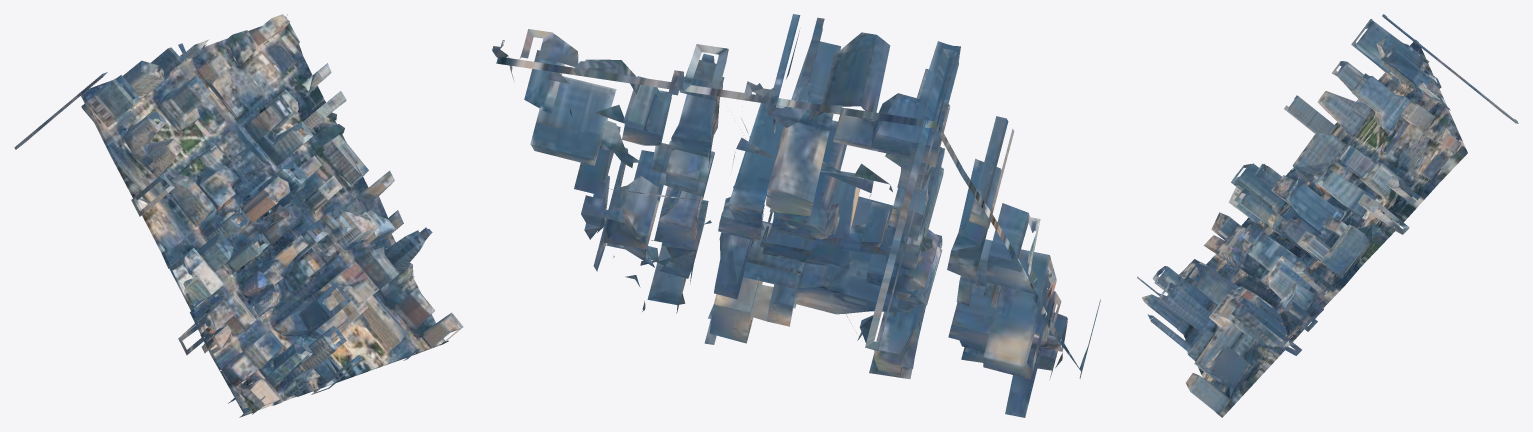
File: AJVsH2yWs-6Wjqg1tFX0XgY26T4yGLd7Tq22v1IIE8mjvalb3gCwFvGiyfzj3iLM71-NJxWPqkzFi8jLgHZu04_l4K6WBltQDcvhDz3E_Uod58m2q3gEQZTMU6EM6akm8Nl8MuMMAkh7iB3b8h6AG9It-gSH9PPEgA.glb
The picture shows the model from 3 angles, left to right: view 1: azimuth 30°, elevation 25°; view 2: azimuth 150°, elevation 25°; view 3: azimuth 270°, elevation 25°; orthographic projection. The views are drawn at different scales.
Size of the model in its own units: 551 by 529 by 634.
2 materials, 2 textured.
